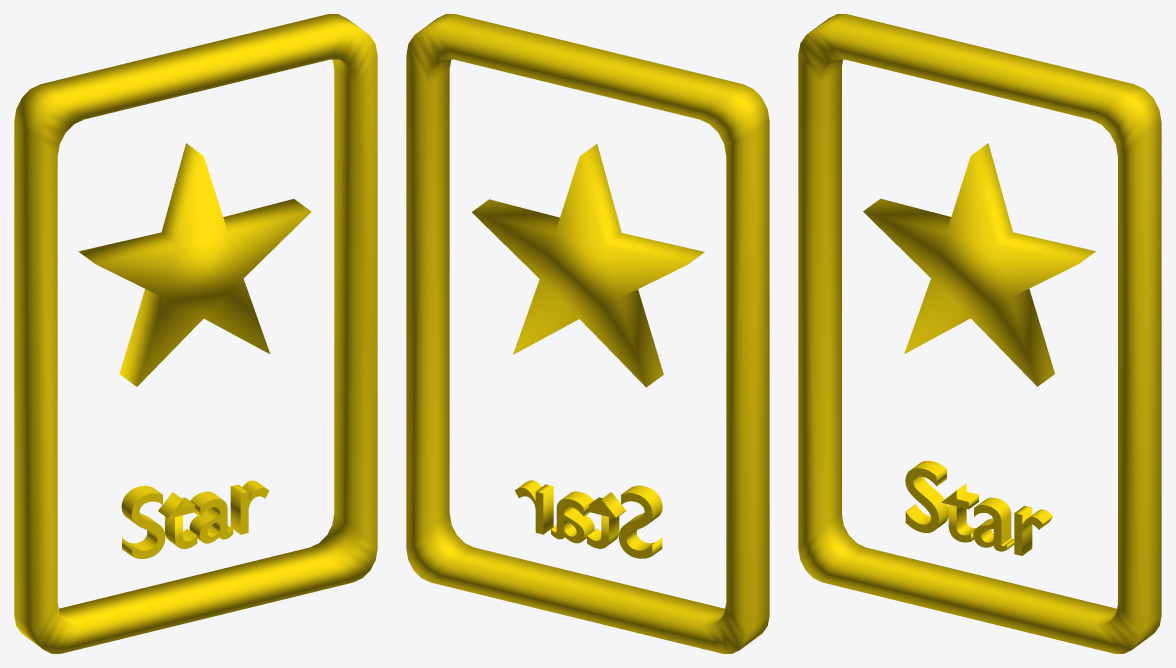
The model's file is Shape_Star.gltf.
3 renders of one model, left to right at view 1: azimuth 30°, elevation 25°; view 2: azimuth 150°, elevation 25°; view 3: azimuth 330°, elevation 25°, orthographic.
Parts seen in each view (by area): view 1: Text.012; view 2: Text.012; view 3: Text.012.
Boxes of the visible parts, x1,y1,x2,y2 form: Text.012: (14, 14, 377, 653); Text.012: (406, 14, 769, 653); Text.012: (798, 14, 1161, 653).
Bounding box in the file's own units: 1 × 1.56 × 0.1143.
